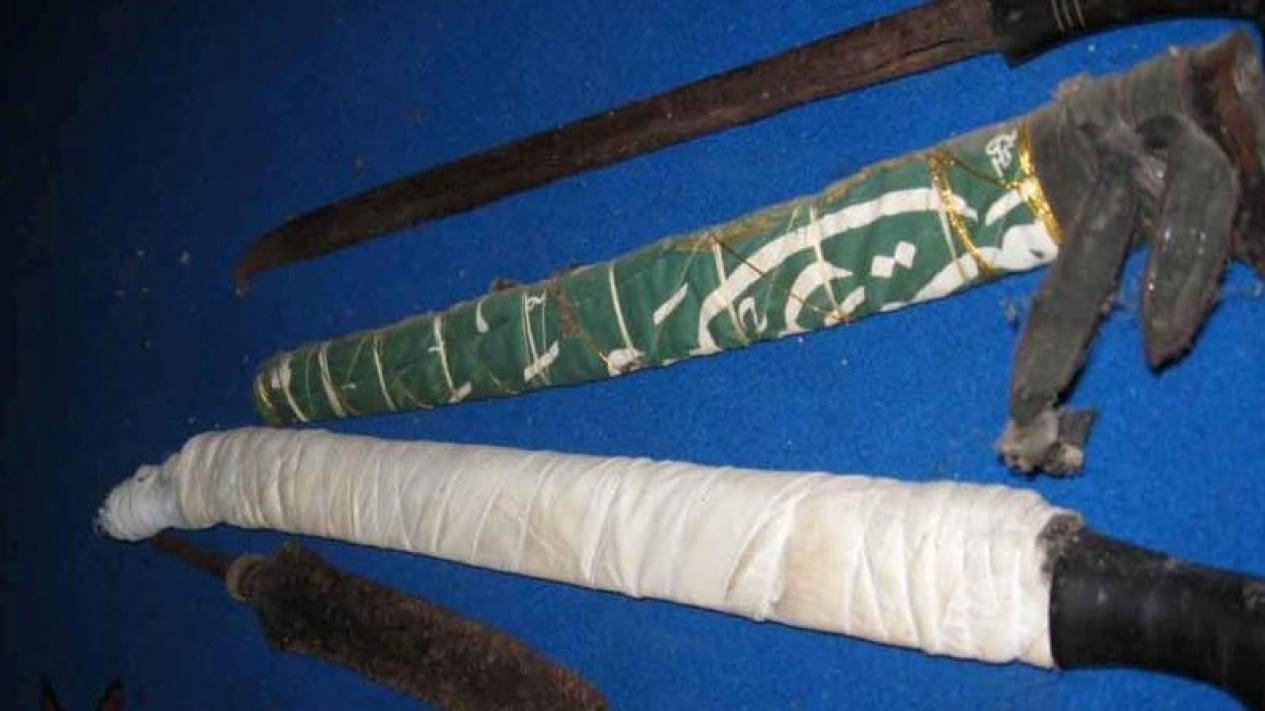espada: (197, 0, 1151, 286)
facao: (154, 514, 614, 711)
